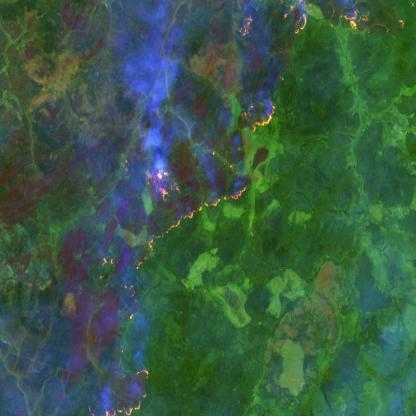fire: (88, 157, 248, 416), (237, 0, 371, 131)
